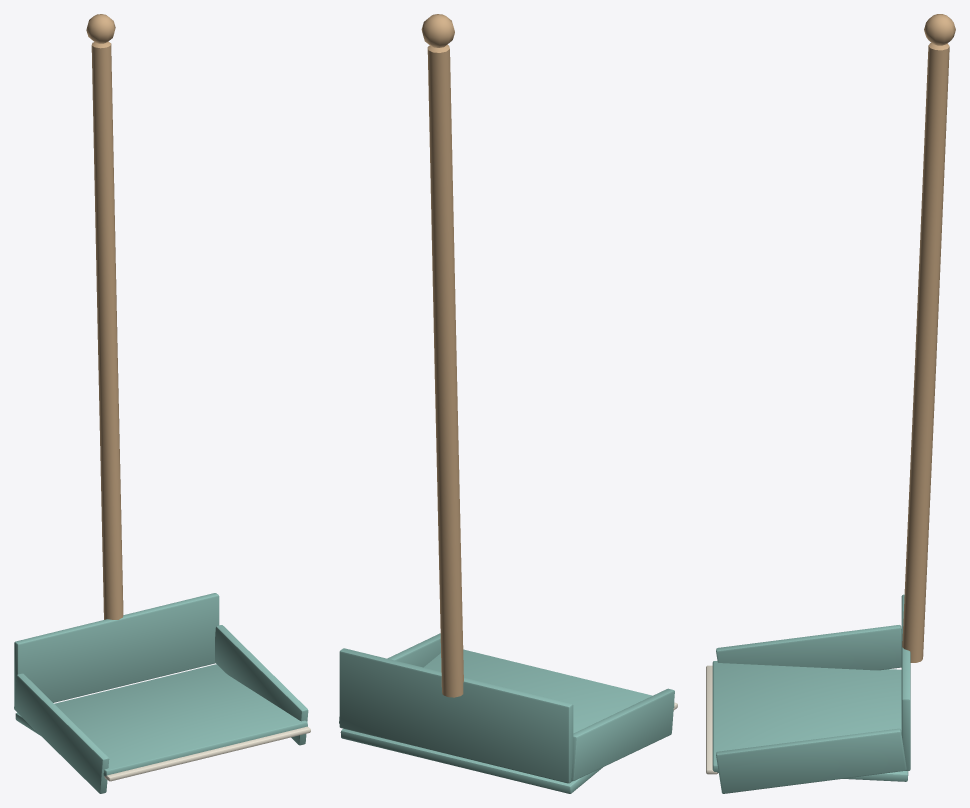
The model's file is dustpan.glb.
3 renders of one model, left to right at view 1: azimuth 30°, elevation 25°; view 2: azimuth 150°, elevation 25°; view 3: azimuth 270°, elevation 25°, orthographic. The views are drawn at different scales.
Parts seen in each view (by area): view 1: dustpan; view 2: dustpan; view 3: dustpan.
Part boxes in pixels (left/top/right/bottom): dustpan: left=14, top=14, right=310, bottom=793; dustpan: left=339, top=14, right=677, bottom=793; dustpan: left=706, top=14, right=955, bottom=793.
Size of the model in its own units: 0.286 by 0.9 by 0.281.
